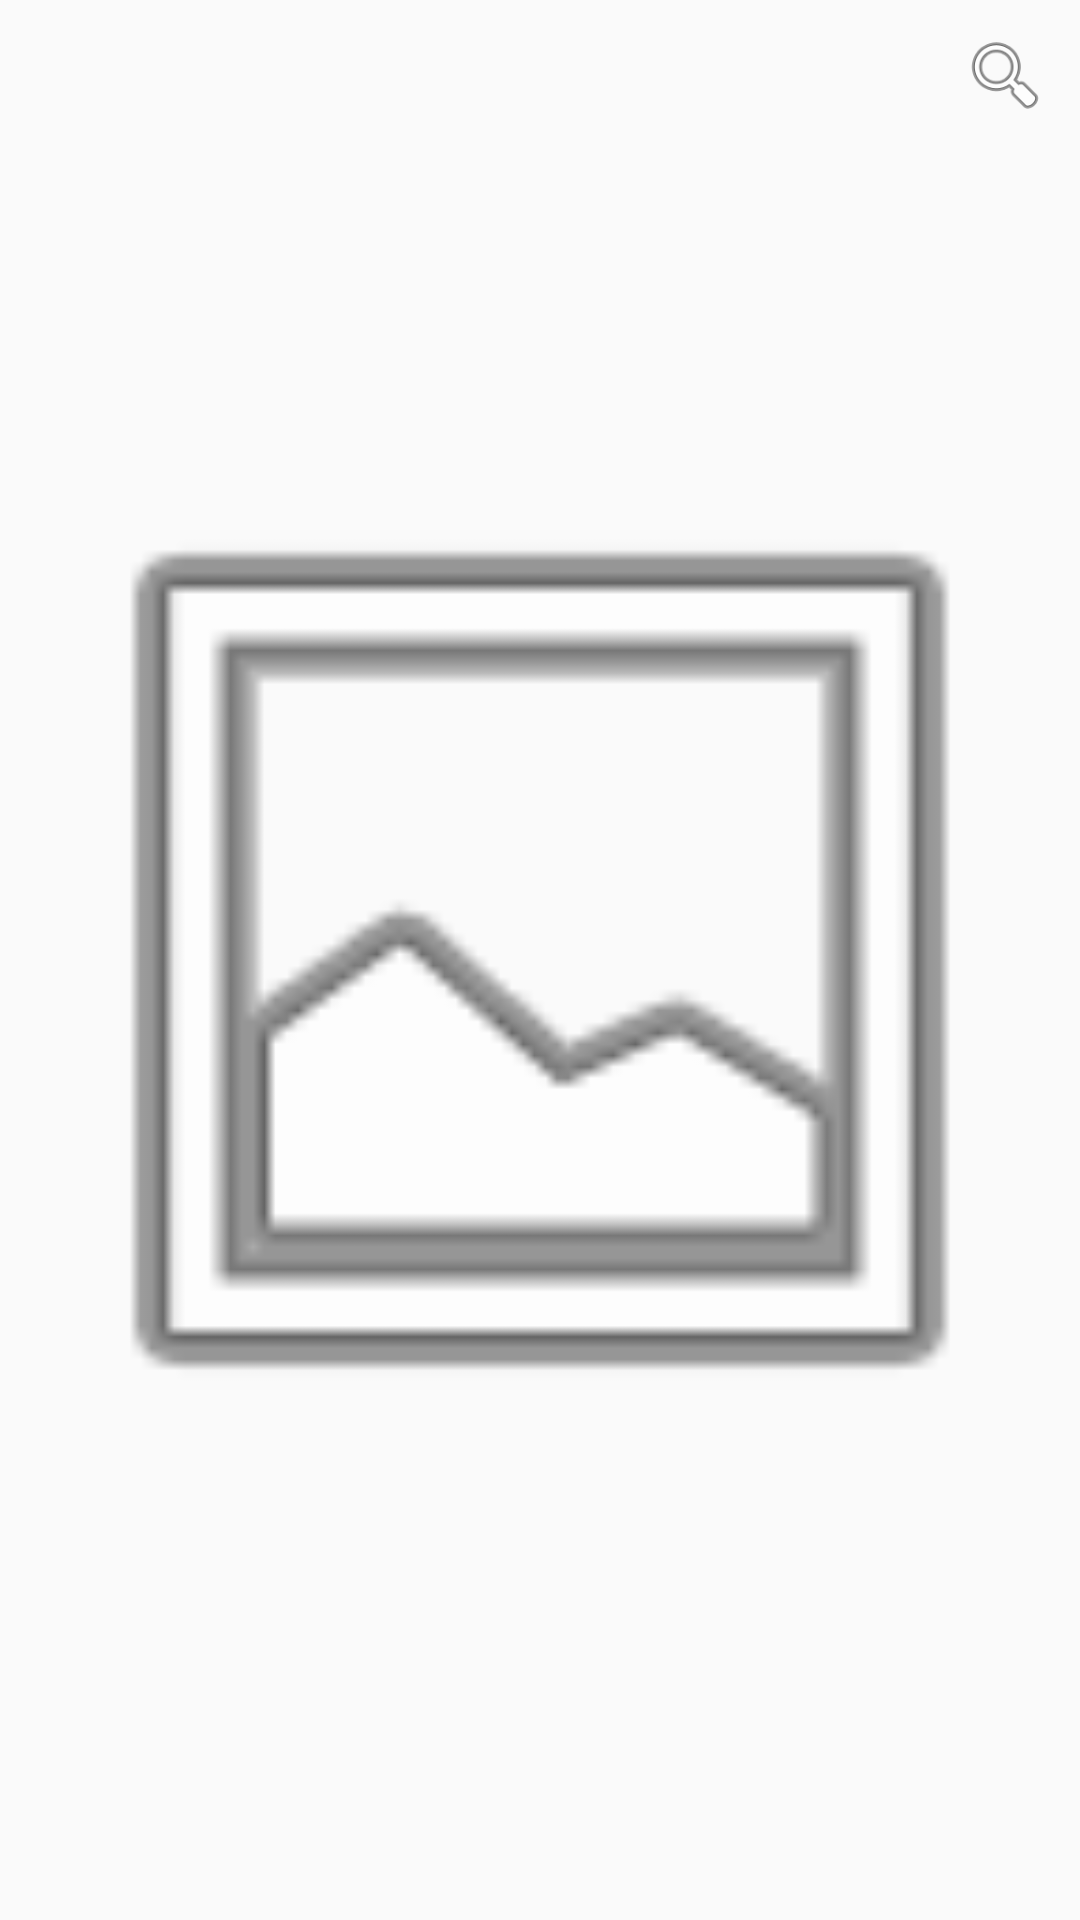

Icons on this 1080×1920 Android screen, each with its box as (x1, y1, x2, y2):
search: (972, 42, 1038, 109)
